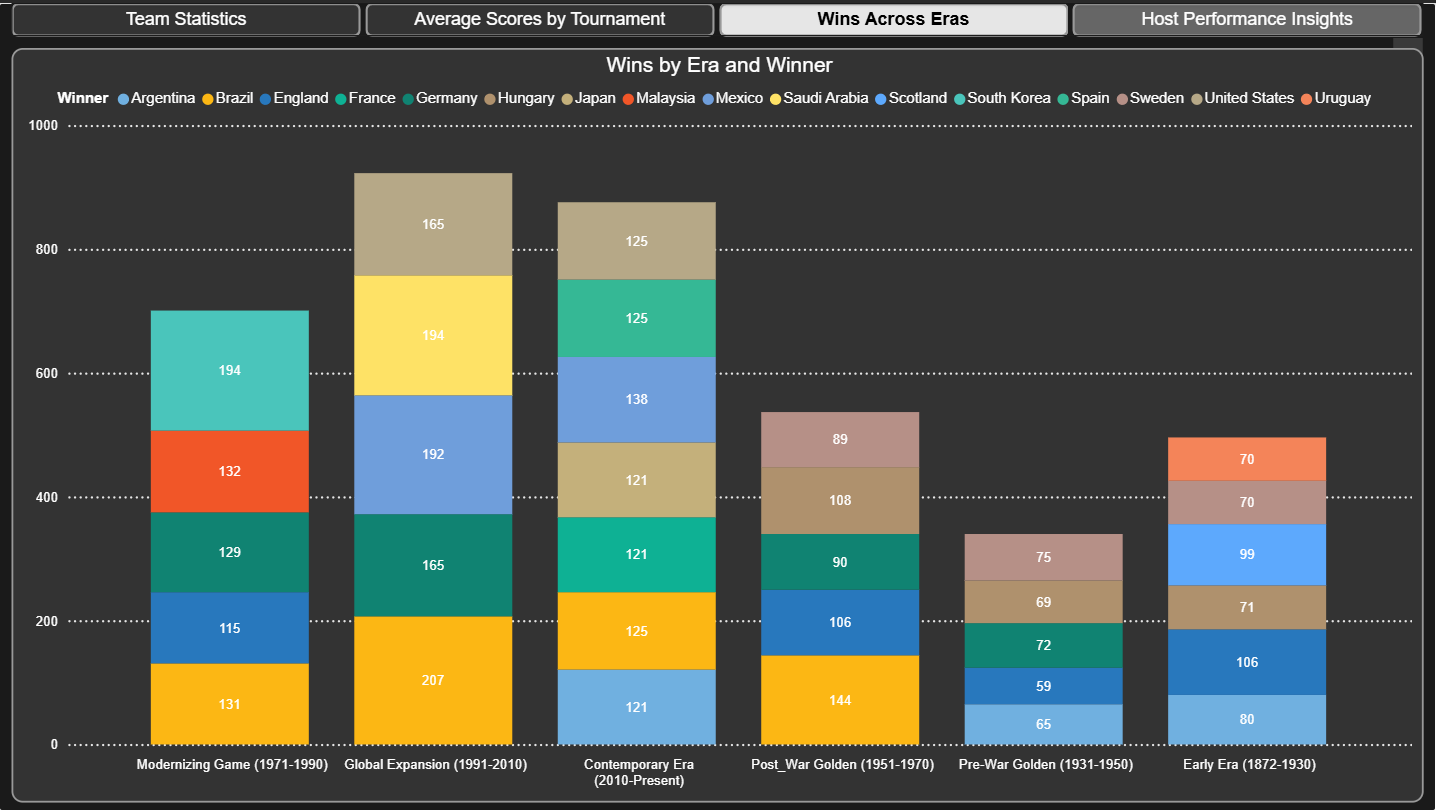

The dashboard page shown, as its layout file describes it:
{"tool":"powerbi","page":{"name":"Wins Across Eras","canvas":[1280,720],"ordinal":2},"visuals":[{"type":"pageNavigator","box":[11,0,1258.3,30.2],"z":0},{"type":"columnChart","fields":{"Category":["Dim_Date.Era"],"Y":["_Measures.Wins"],"Series":["results.Winner"]},"box":[10.5,40.7,1258.1,672.1],"z":1000}]}

Visuals, with their boxes in screenshot pixels (x1, y1, x2, y2), scaled from the page's 1280x720 canvas onto the 1436x810 screenshot:
pageNavigator: detection(12, 0, 1424, 34)
columnChart - Dim_Date.Era x _Measures.Wins: detection(12, 46, 1423, 802)
